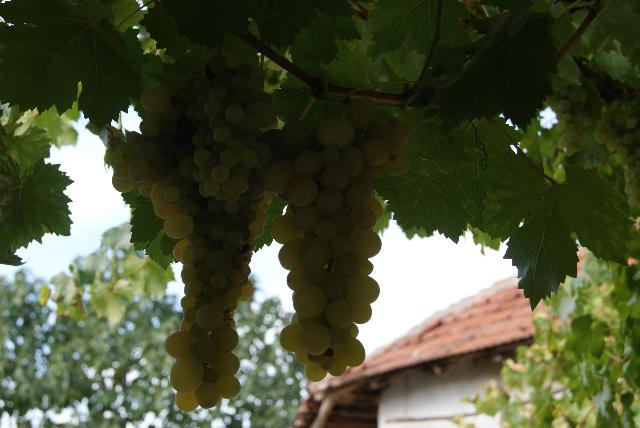grapes: (110, 88, 262, 410), (262, 99, 411, 381), (175, 55, 275, 205)
